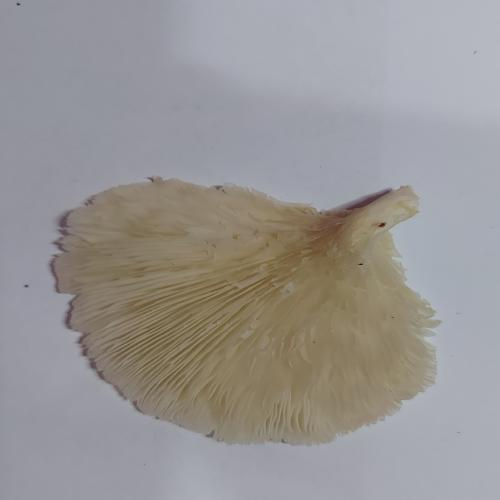Oyster Mushroom: (49, 174, 441, 447)
